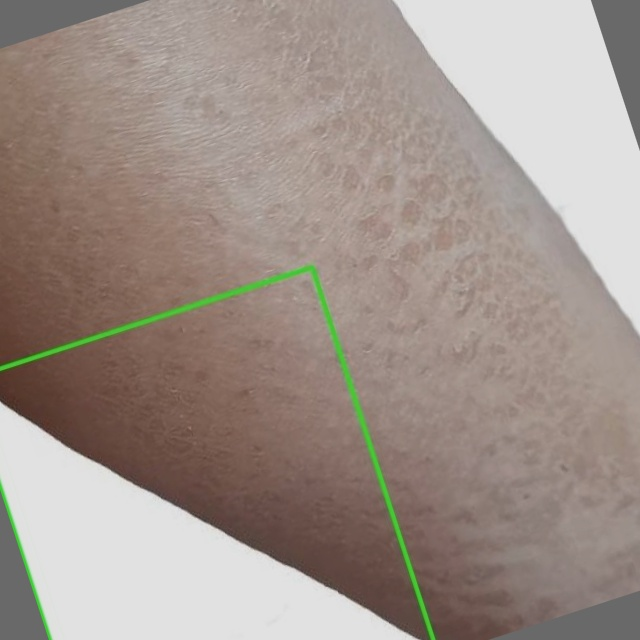Contact Dermatitis: (0, 267, 433, 639)
